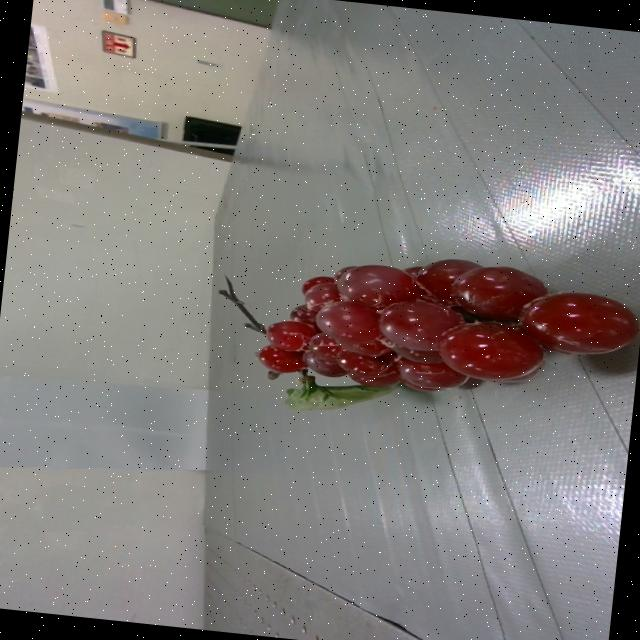grape: (219, 258, 637, 411)
